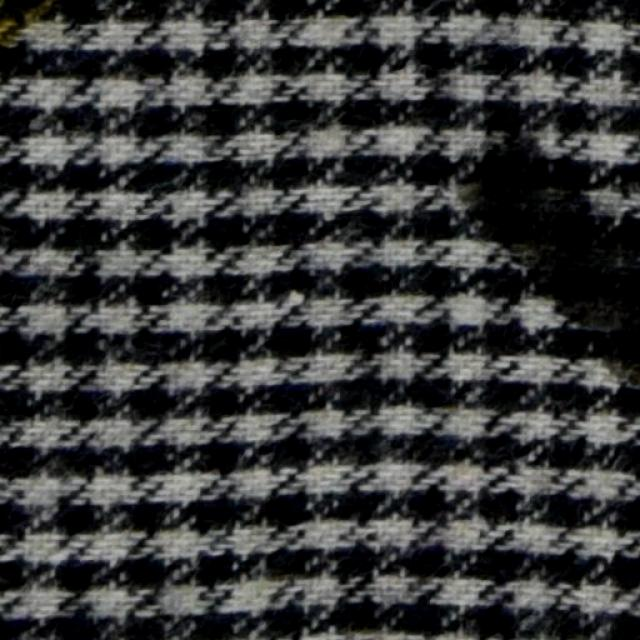Stain: (455, 138, 638, 394)
